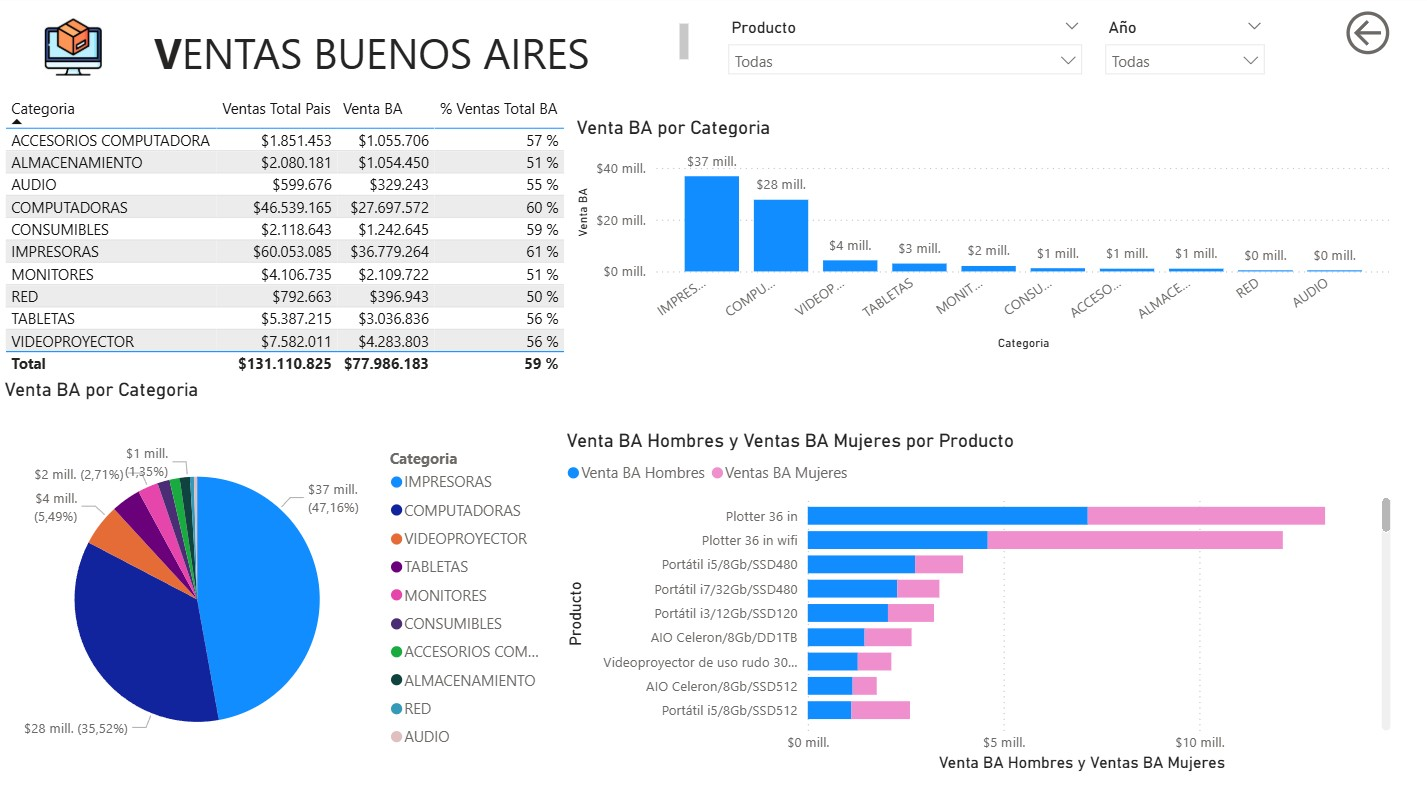

Layout of this report page (visuals, bound fields, positions):
{"tool":"powerbi","page":{"name":"BUENOS AIRES","canvas":[1280,720],"ordinal":3},"visuals":[{"type":"tableEx","fields":{"Values":["tblProducto.Categoria","Sum(tblOrdenDetalle.Venta)","tblOrdenDetalle.Venta BA","tblOrdenDetalle.% Ventas Total"]},"box":[0,86.1,512.4,261.3],"z":0},{"type":"columnChart","fields":{"Category":["tblProducto.Categoria"],"Y":["tblOrdenDetalle.Venta BA"]},"box":[512.4,107.6,738.9,214.2],"z":1000},{"type":"textbox","box":[133.3,20.5,489.2,56.4],"z":2000,"group":"g1"},{"type":"pieChart","fields":{"Category":["tblProducto.Categoria","tblProducto.SubCategoria","tblProducto.Producto"],"Y":["tblOrdenDetalle.Venta BA"]},"box":[0,342.4,502.9,377.4],"z":2000},{"type":"slicer","fields":{"Values":["tblProducto.Producto"]},"box":[642.6,15.4,337.2,65.6],"z":3000,"group":"g2"},{"type":"barChart","fields":{"Category":["tblProducto.Producto"],"Y":["tblOrdenDetalle.Venta BA Hombres","tblOrdenDetalle.Ventas BA Mujeres"]},"box":[502.9,388.1,748,312.2],"z":3000},{"type":"group","id":"g1","title":"Grupo 1","box":[0,15.6,622.5,61.3],"z":4000},{"type":"image","box":[0,15.6,133.3,61.3],"z":4000,"group":"g1"},{"type":"actionButton","box":[1200.6,8.1,53,49.9],"z":5000},{"type":"group","id":"g2","title":"Grupo 2","box":[642.6,15.4,500.1,65.6],"z":6000},{"type":"slicer","fields":{"Values":["tblOrden.Fecha.Variación.Jerarquía de fechas.Año"]},"box":[979.8,15.4,162.9,64.6],"z":6001,"group":"g2"}]}

Visuals, with their boxes in screenshot pixels (x1, y1, x2, y2), scaled from the page's 1280x720 canvas onto the 1427x797 screenshot:
tableEx - tblProducto.Categoria x Sum(tblOrdenDetalle.Venta): x1=0 y1=95 x2=571 y2=385
columnChart - tblProducto.Categoria x tblOrdenDetalle.Venta BA: x1=571 y1=119 x2=1395 y2=356
textbox: x1=149 y1=23 x2=694 y2=85
pieChart - tblProducto.Categoria x tblProducto.SubCategoria: x1=0 y1=379 x2=561 y2=796
slicer - tblProducto.Producto: x1=716 y1=17 x2=1092 y2=90
barChart - tblProducto.Producto x tblOrdenDetalle.Venta BA Hombres: x1=561 y1=430 x2=1395 y2=775
"Grupo 1" group: x1=0 y1=17 x2=694 y2=85
image: x1=0 y1=17 x2=149 y2=85
actionButton: x1=1338 y1=9 x2=1398 y2=64
"Grupo 2" group: x1=716 y1=17 x2=1274 y2=90
slicer - tblOrden.Fecha.Variación.Jerarquía de fechas.Año: x1=1092 y1=17 x2=1274 y2=89
